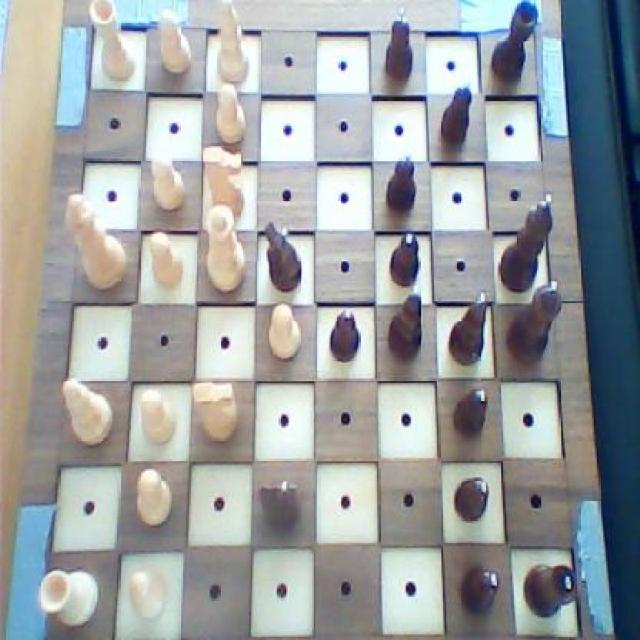bishop: (442, 287, 491, 368), (385, 282, 426, 363)
black-bishop: (497, 192, 558, 296)
black-king: (262, 220, 306, 295), (256, 476, 304, 532)
black-knight: (380, 145, 422, 216), (434, 77, 474, 150), (457, 562, 501, 620), (383, 5, 415, 84), (323, 304, 363, 366), (385, 228, 423, 287), (451, 471, 491, 523), (451, 386, 487, 439)
black-pawn: (502, 278, 566, 374)
black-queen: (489, 0, 538, 86), (520, 560, 578, 621)
black-rook: (61, 374, 117, 453), (214, 0, 249, 83)
white-bishop: (65, 188, 130, 296)
white-king: (198, 144, 250, 220), (191, 380, 241, 445)
white-knight: (154, 6, 194, 79), (144, 226, 188, 290), (136, 382, 180, 446), (125, 564, 172, 622), (214, 80, 249, 151), (134, 466, 174, 527), (148, 150, 186, 214), (265, 298, 303, 362)
white-pawn: (37, 565, 102, 632), (205, 202, 248, 300)
white-queen: (89, 0, 139, 85)
